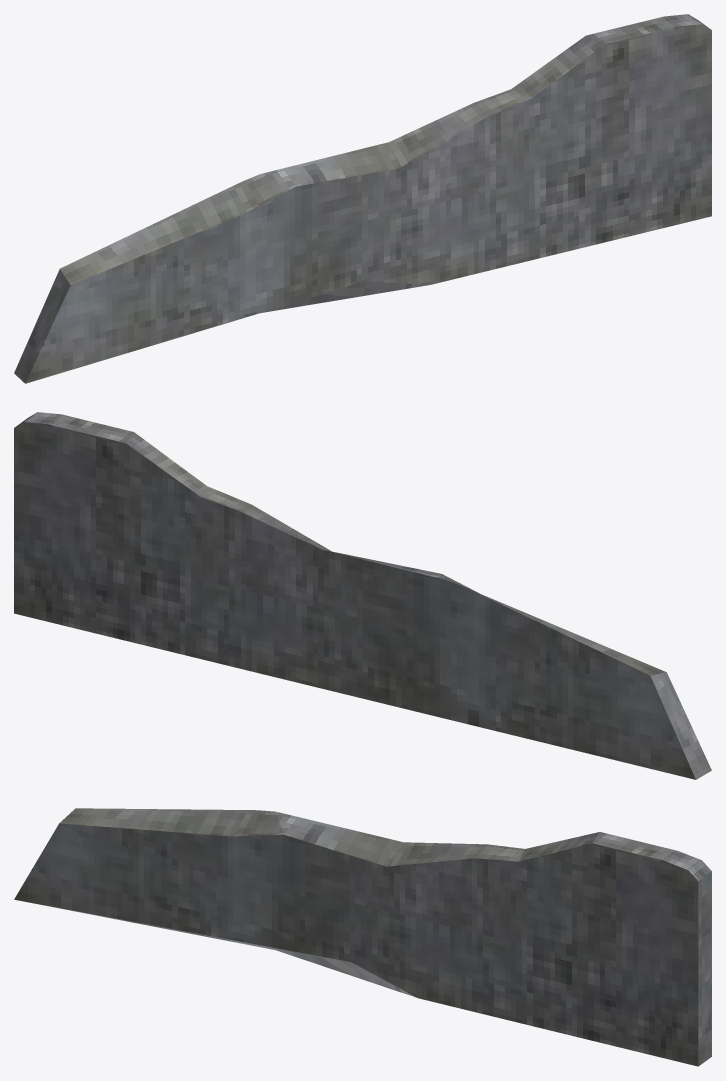
File: lf_plackard_slab_broken.glb
3 views of the same model, one above another, from view 1: azimuth 30°, elevation 25°; view 2: azimuth 150°, elevation 25°; view 3: azimuth 330°, elevation 25° (orthographic).
Visible parts, largest first — view 1: plackard_slab_boken; view 2: plackard_slab_boken; view 3: plackard_slab_boken.
Part boxes in pixels (x1=…): plackard_slab_boken: x1=14, y1=14, x2=711, y2=383; plackard_slab_boken: x1=14, y1=412, x2=711, y2=779; plackard_slab_boken: x1=14, y1=808, x2=711, y2=1066.
Bounding box in the file's own units: 2.9 × 0.8002 × 0.0999.
Materials: 1 (1 with a texture image).
